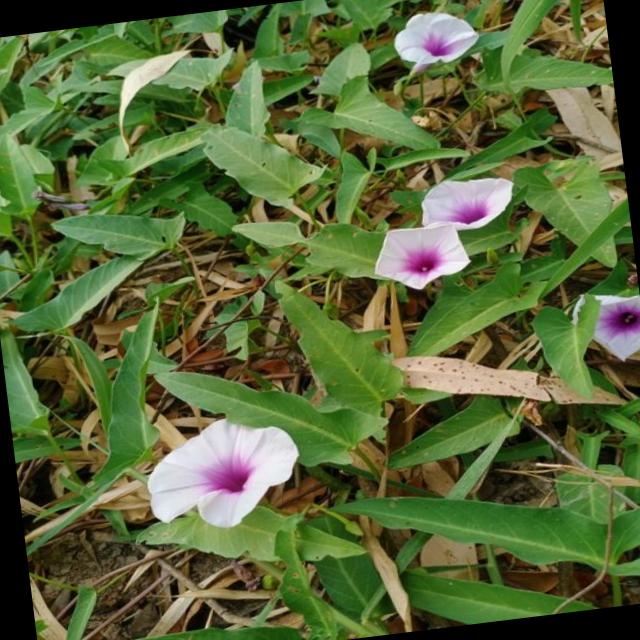ipomoea: (134, 406, 310, 540), (364, 218, 476, 298), (384, 4, 486, 80), (412, 169, 522, 238), (567, 285, 640, 369)
